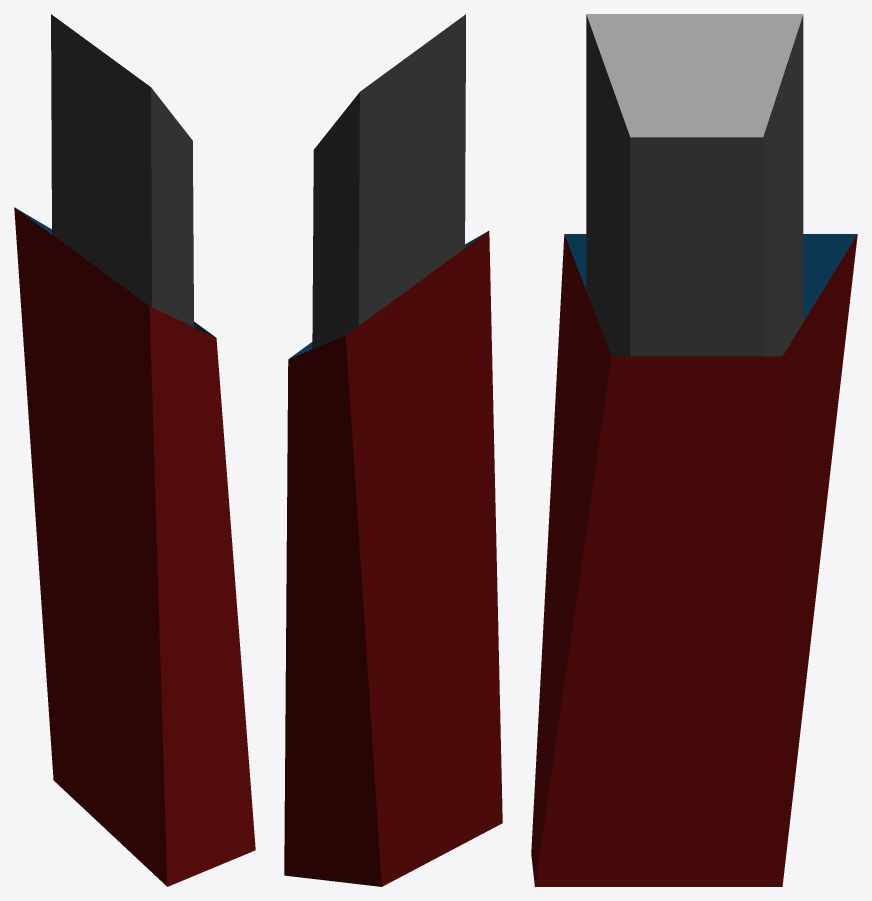
Rendered from PlayerLeg.fbx.
The picture shows the model from 3 angles, left to right: view 1: azimuth 30°, elevation 25°; view 2: azimuth 150°, elevation 25°; view 3: azimuth 270°, elevation 25°; orthographic projection. The views are drawn at different scales.
Visible parts, largest first — view 1: polySurface16; view 2: polySurface16; view 3: polySurface16.
Boxes of the visible parts, bbox=[...] form: polySurface16: bbox=[14, 14, 255, 886]; polySurface16: bbox=[284, 14, 502, 886]; polySurface16: bbox=[531, 14, 857, 886].
Bounding box in the file's own units: 0.4739 × 3.81 × 1.33.
